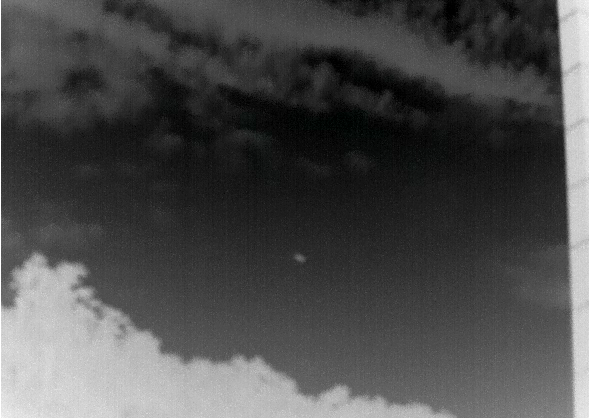dim target: (293, 252, 306, 263)
